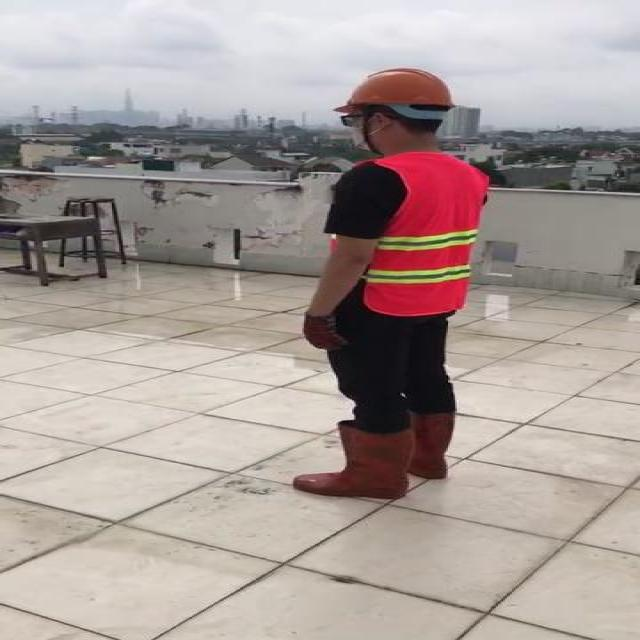boots: (299, 422, 414, 500), (411, 412, 457, 480)
hand_glove: (298, 314, 346, 351)
vest: (361, 155, 491, 318)
